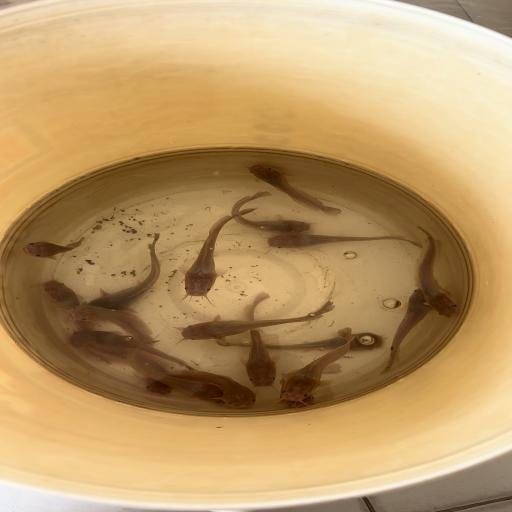lele: (181, 208, 258, 300), (176, 300, 336, 342), (128, 340, 229, 404), (90, 232, 162, 313), (280, 327, 353, 401), (379, 288, 440, 375), (247, 164, 344, 218), (72, 329, 196, 370), (412, 225, 464, 319), (85, 342, 171, 397), (218, 329, 384, 353), (159, 370, 257, 410), (232, 190, 312, 234), (65, 304, 153, 343), (243, 293, 277, 387), (38, 280, 93, 332), (266, 233, 424, 251), (23, 236, 85, 260), (276, 385, 318, 408)
